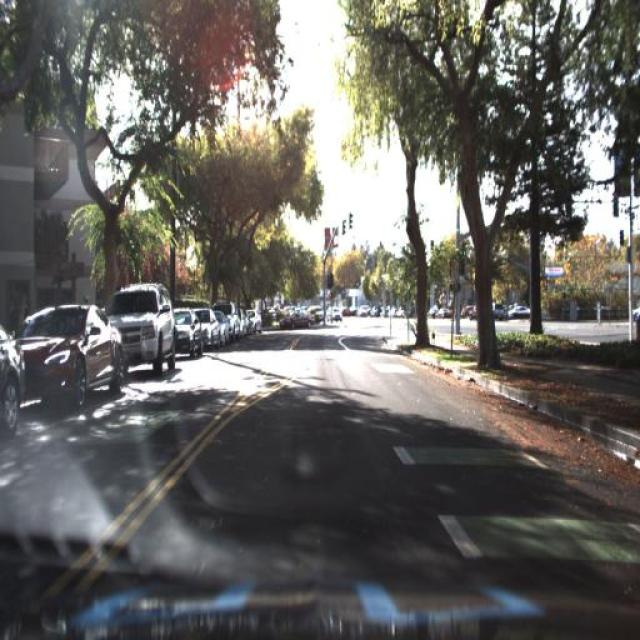car: (24, 295, 127, 414), (128, 275, 178, 379), (1, 314, 27, 444), (173, 300, 204, 362), (201, 306, 218, 353), (217, 306, 229, 346), (336, 302, 354, 322), (310, 305, 328, 324), (331, 306, 344, 326)
